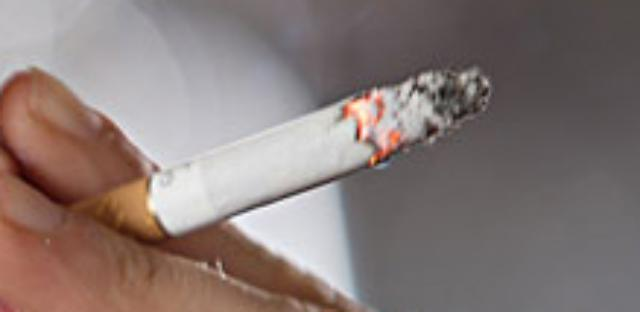Smoking: (1, 64, 496, 272)
